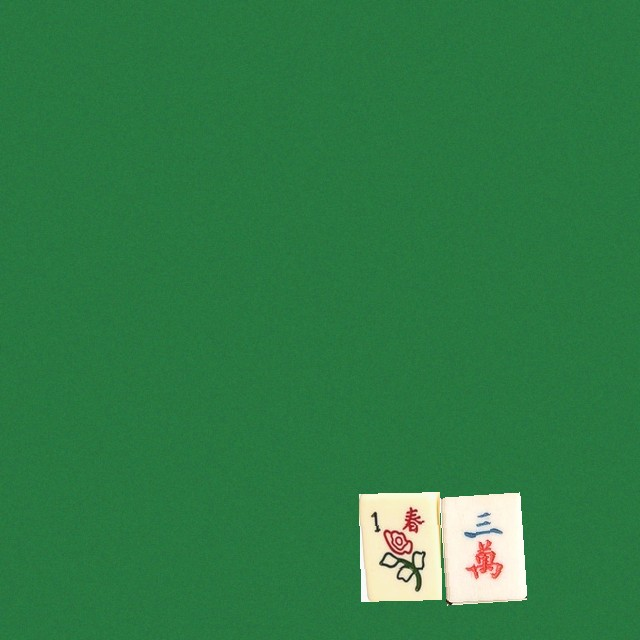tile: (358, 492, 439, 600), (439, 492, 520, 600)
